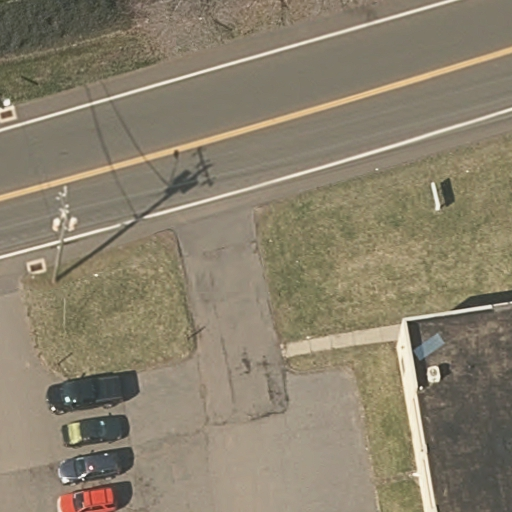DT: (40, 181, 85, 288)
